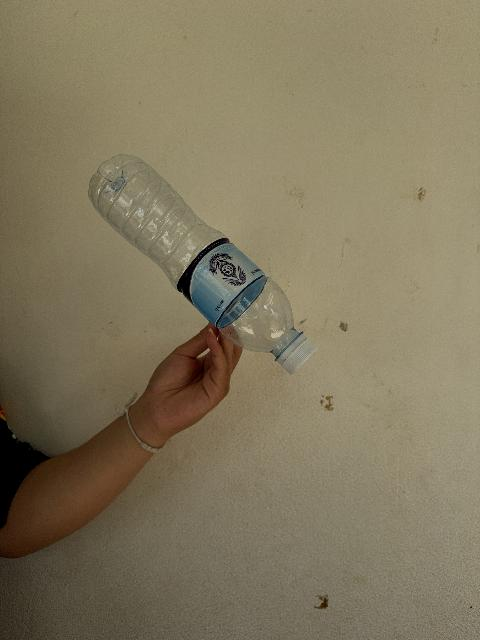bottle: (88, 155, 315, 373)
